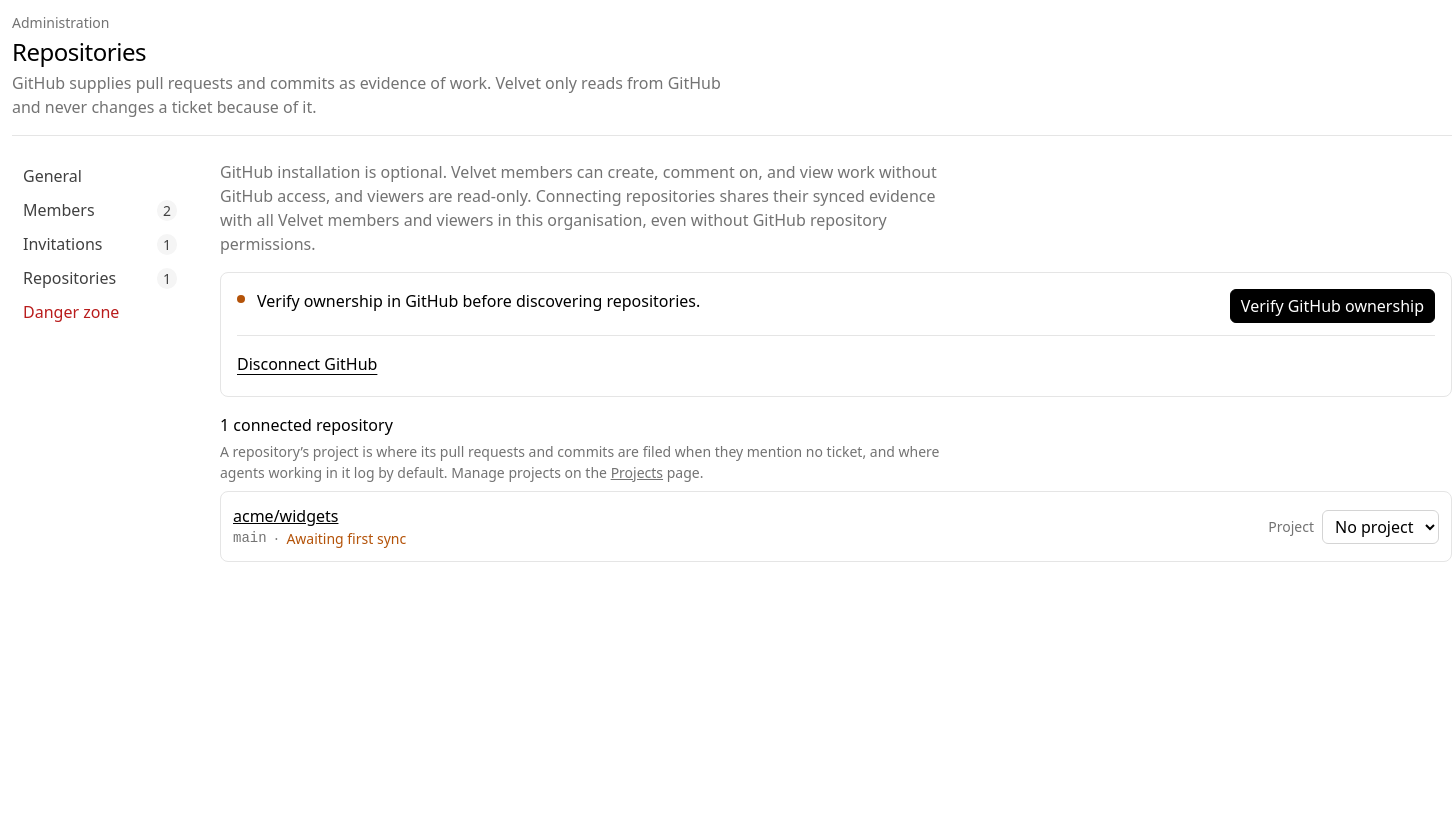
Test: Admin › explains how to disconnect in GitHub without locally removing the installation
The width and height of the screenshot is (1452, 822).
Click the heading "Disconnect GitHub": (307, 364) [237,348,377,380]
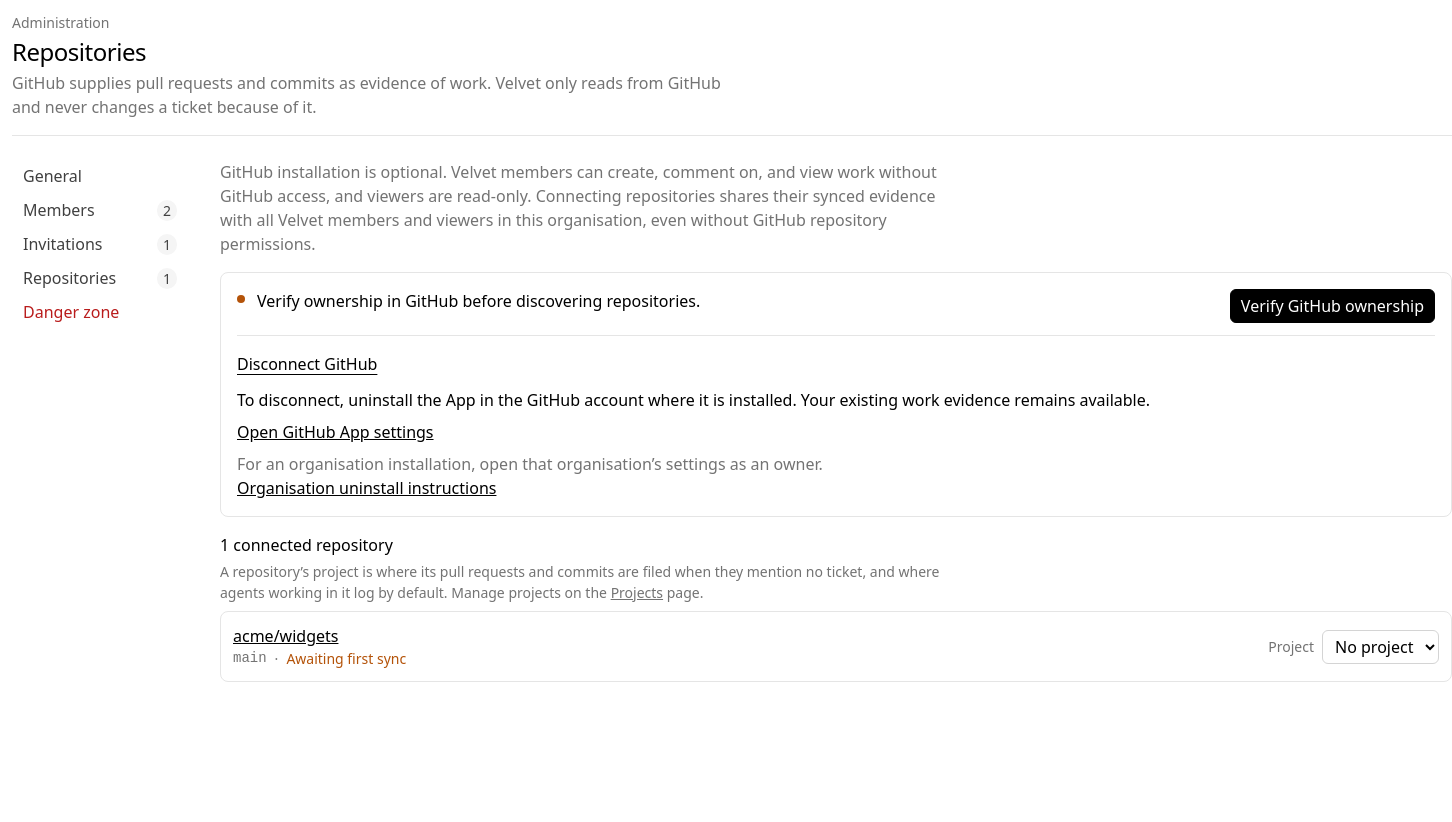
Now the text "To disconnect, uninstall the App in the GitHub account" is shown, box [237,389,1150,411]
